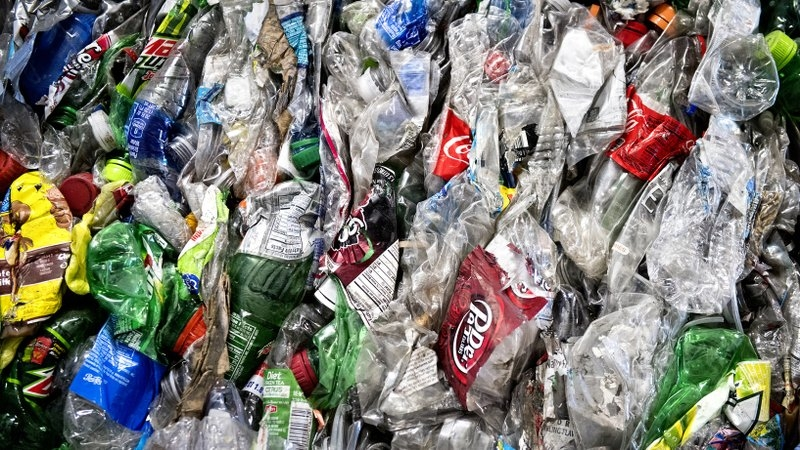plastic: (203, 191, 334, 411), (112, 1, 244, 190), (648, 102, 758, 311), (423, 239, 550, 417), (635, 314, 789, 450), (45, 287, 166, 447), (75, 220, 182, 363), (1, 168, 79, 330), (679, 16, 788, 126), (1, 93, 130, 183)
